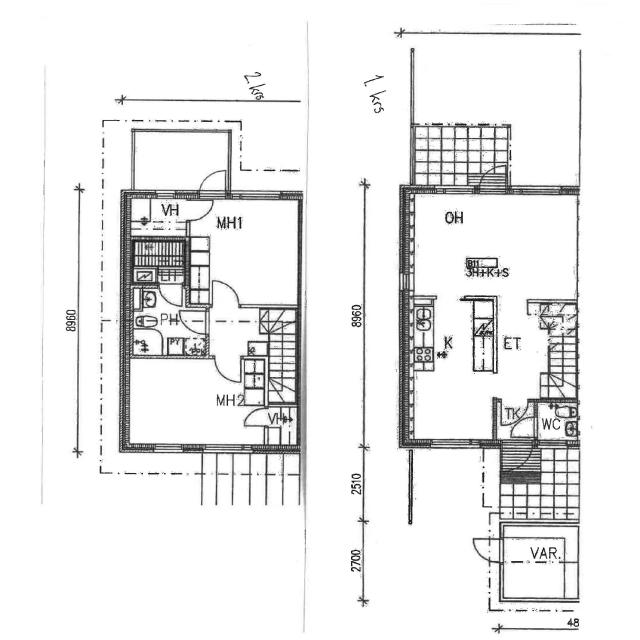door: (207, 275, 246, 310), (210, 355, 245, 386), (197, 167, 230, 199), (177, 308, 213, 337), (182, 196, 218, 224), (475, 166, 509, 195), (469, 537, 504, 563), (155, 281, 187, 309), (240, 406, 274, 428), (510, 417, 538, 439)
window: (507, 181, 569, 201), (420, 436, 484, 454), (230, 187, 290, 205), (195, 440, 257, 456), (147, 441, 193, 458), (432, 184, 479, 198), (394, 266, 417, 294)
zone: (122, 356, 260, 450), (188, 196, 302, 307), (402, 373, 496, 444), (499, 525, 579, 601), (122, 192, 190, 267), (128, 313, 209, 357), (128, 233, 188, 274), (535, 397, 582, 444), (169, 308, 211, 342)
